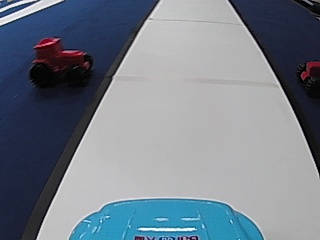tractor: (28, 34, 92, 88), (296, 59, 320, 98)
